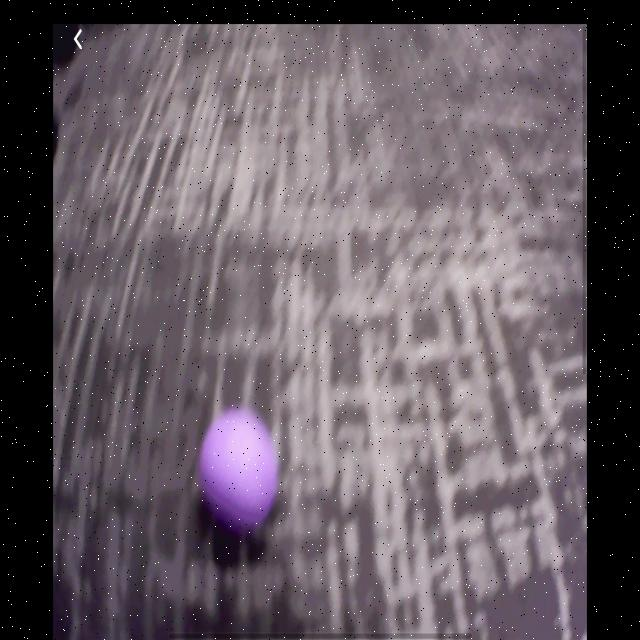ball: (198, 407, 280, 534)
